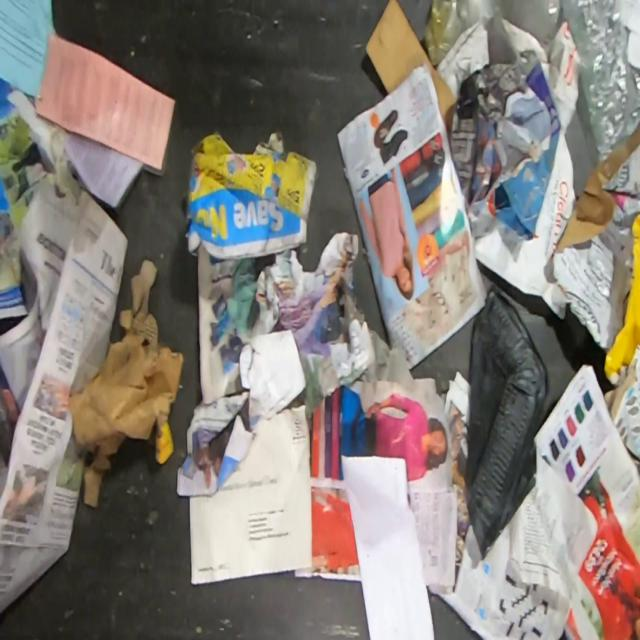cardboard: (66, 260, 185, 505), (552, 120, 640, 353), (364, 0, 457, 143), (495, 56, 561, 243), (603, 344, 640, 493)
rigid_plastic: (465, 286, 548, 560)
soft_plastic: (560, 0, 640, 163), (424, 0, 567, 67)
